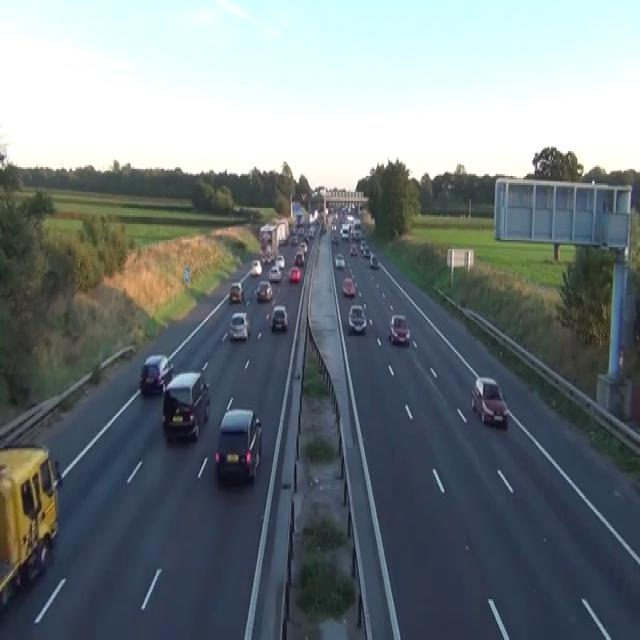Car: (215, 407, 262, 484), (162, 371, 210, 441), (471, 375, 508, 427), (139, 352, 174, 395), (388, 313, 410, 345), (228, 311, 249, 340), (348, 304, 366, 332), (271, 304, 288, 331), (256, 279, 272, 301), (229, 281, 244, 302), (342, 275, 355, 297), (288, 265, 301, 283), (250, 260, 262, 276), (269, 265, 281, 281), (334, 252, 345, 268), (369, 252, 379, 268), (275, 252, 285, 268), (294, 249, 304, 265), (340, 224, 349, 238), (350, 242, 358, 256), (319, 222, 327, 235), (441, 182, 454, 190), (362, 245, 370, 258), (299, 240, 307, 252), (262, 253, 271, 263), (352, 228, 361, 238), (278, 237, 287, 246), (330, 233, 338, 243), (308, 226, 314, 238), (360, 238, 366, 249), (291, 235, 297, 245), (331, 221, 337, 231), (298, 226, 304, 236)
Truck: (0, 442, 62, 612), (259, 222, 278, 263), (276, 217, 289, 245)
